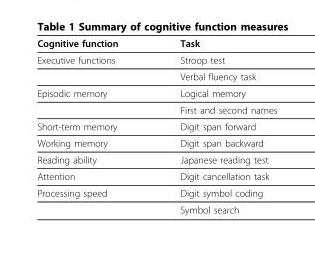table: (36, 37, 276, 214)
table column: (148, 37, 276, 214), (36, 37, 148, 214)
table column header: (36, 37, 276, 51)
table row: (36, 67, 276, 84), (36, 84, 276, 101), (36, 117, 276, 134), (36, 134, 276, 151), (36, 167, 276, 184), (36, 51, 276, 67), (36, 101, 276, 117), (36, 151, 276, 167), (36, 184, 276, 200), (36, 37, 276, 51), (36, 200, 276, 214)
table spanning cell: (36, 51, 148, 84), (36, 84, 148, 117), (36, 184, 148, 214)
